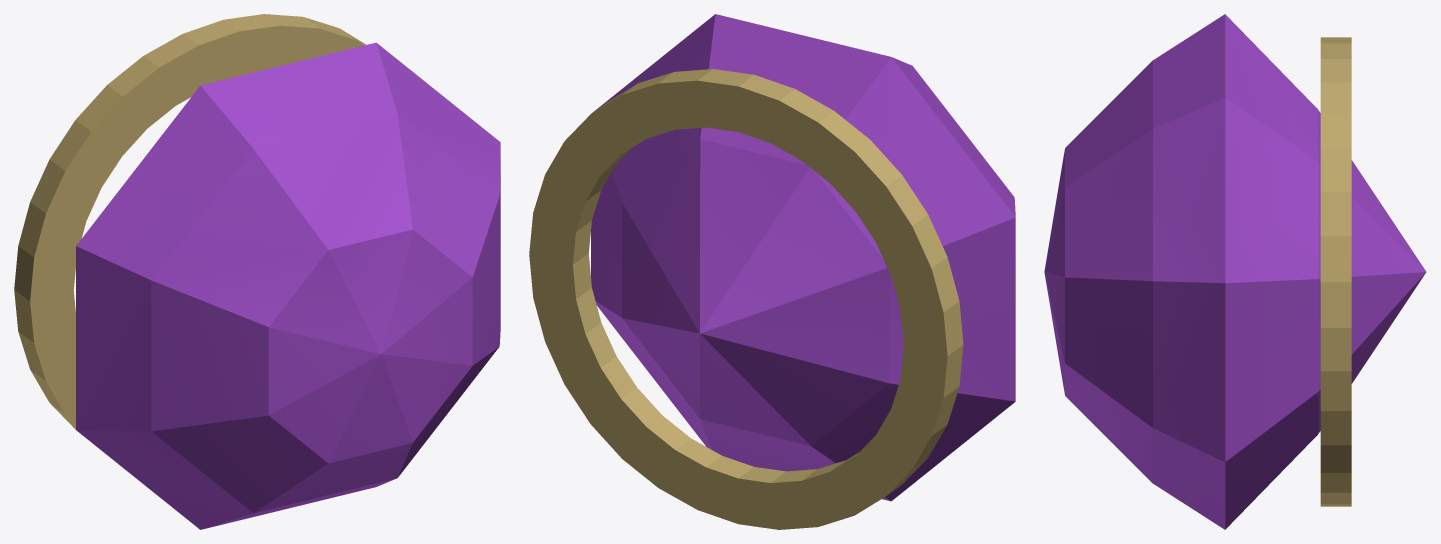
Rendered from tas_deli.glb.
3 renders of one model, left to right at view 1: azimuth 30°, elevation 25°; view 2: azimuth 150°, elevation 25°; view 3: azimuth 270°, elevation 25°, orthographic. The views are drawn at different scales.
Parts seen in each view (by area): view 1: Faceted_Gem, Gold_Collar; view 2: Faceted_Gem, Gold_Collar; view 3: Faceted_Gem, Gold_Collar.
Part boxes in pixels (box(x1,y1,x2,y2)): Faceted_Gem: box(76, 42, 500, 529); Gold_Collar: box(14, 14, 366, 429); Faceted_Gem: box(591, 14, 1015, 501); Gold_Collar: box(529, 69, 963, 529); Faceted_Gem: box(1044, 14, 1426, 529); Gold_Collar: box(1320, 37, 1351, 506).
Size of the model in its own units: 1.85 by 1.85 by 1.48.
